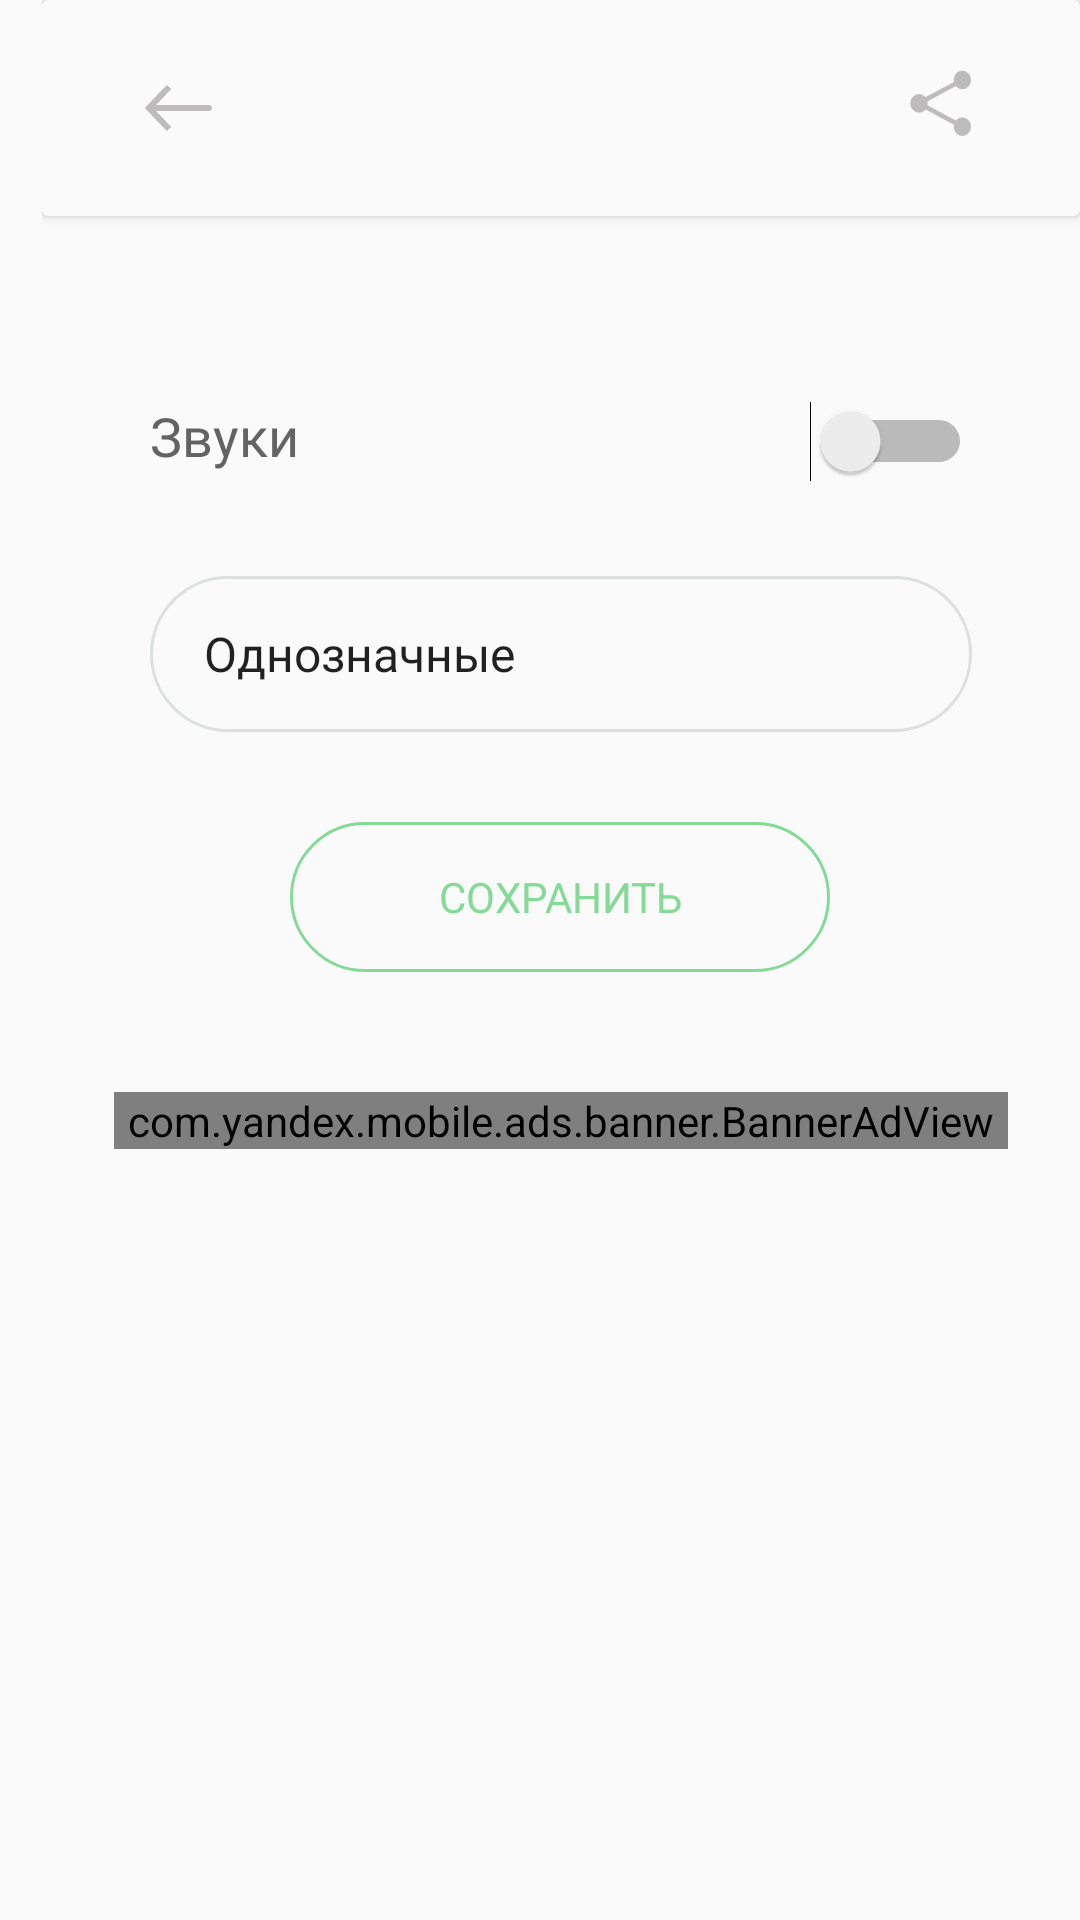

Icon bounding boxes for this 1080×1920 phone screenshot, format (x1, y1, x2, y2):
arrow: (145, 85, 212, 131)
share: (910, 71, 971, 136)
